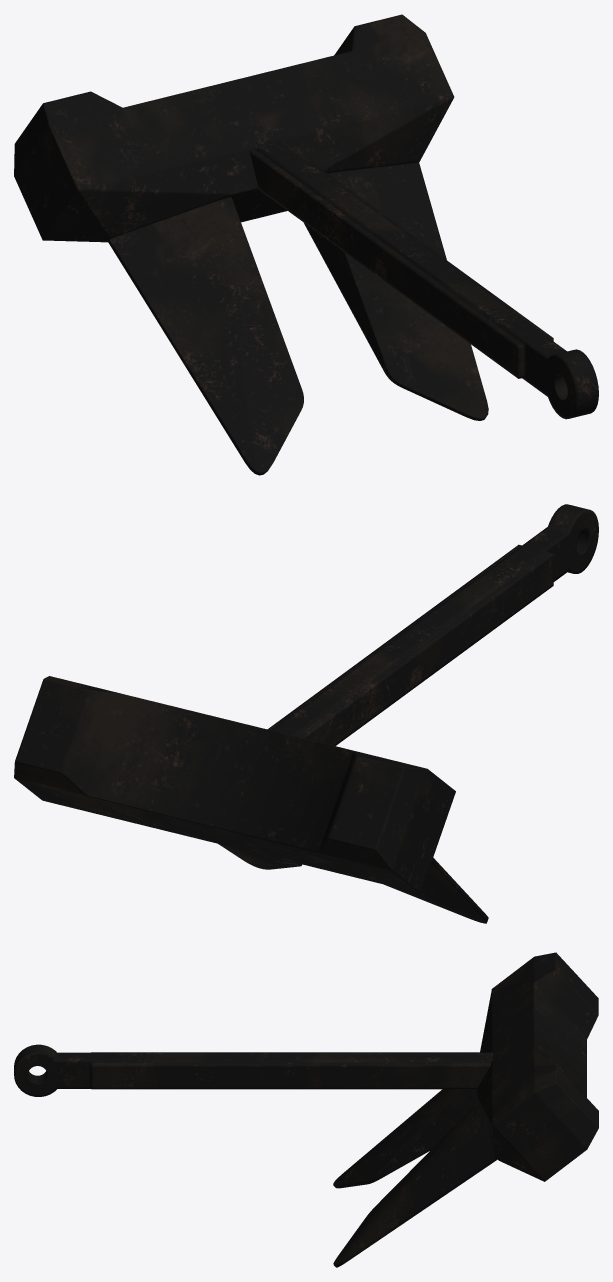
Rendered from Anchor.fbx.
3 views of the same model, one above another, from view 1: azimuth 30°, elevation 25°; view 2: azimuth 150°, elevation 25°; view 3: azimuth 270°, elevation 25° (orthographic). The views are drawn at different scales.
Visible parts, largest first — view 1: Anchor; view 2: Anchor; view 3: Anchor.
Part boxes in pixels (bbox=[...]): Anchor: bbox=[14, 14, 598, 475]; Anchor: bbox=[14, 504, 598, 923]; Anchor: bbox=[14, 952, 598, 1267].
Size of the model in its own units: 0.775 by 0.4296 by 0.3064.
Materials: 1 (1 with a texture image).
